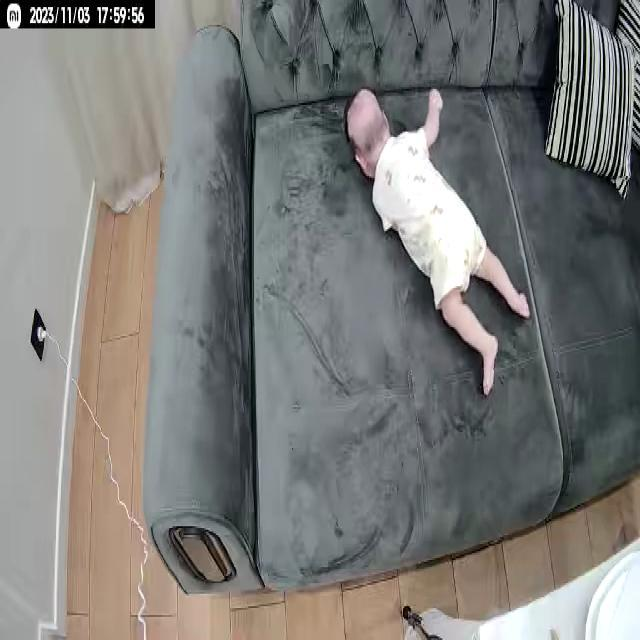baby: (344, 83, 533, 394)
